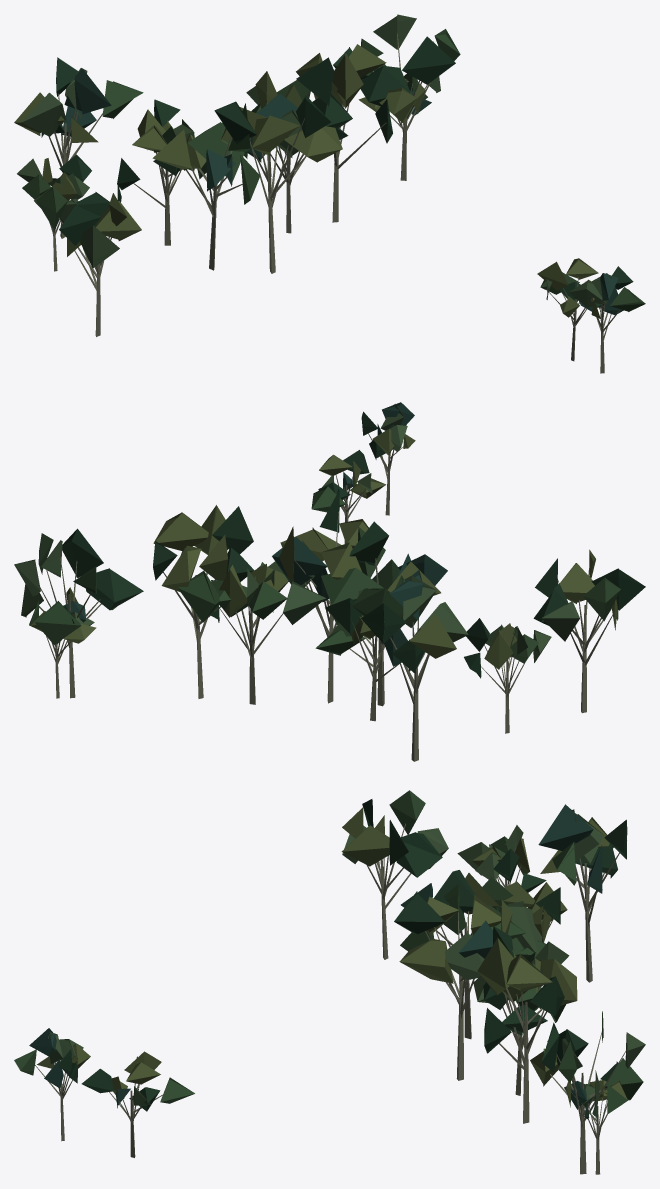
File: forest_25_21.dae
3 renders of one model, top to bottom at view 1: azimuth 30°, elevation 25°; view 2: azimuth 150°, elevation 25°; view 3: azimuth 270°, elevation 25°, orthographic. The views are drawn at different scales.
Parts seen in each view (by area): view 1: Node; view 2: Node; view 3: Node.
Boxes of the visible parts, <box> form: Node: <box>14,14,645,373</box>; Node: <box>14,402,645,761</box>; Node: <box>14,790,645,1174</box>.
Size of the model in its own units: 9.67 by 10.37 by 3.85.
